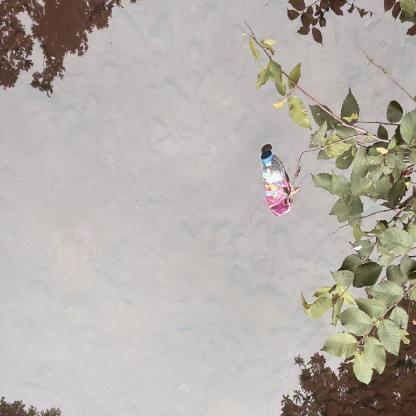Plastic: (256, 144, 297, 223)
